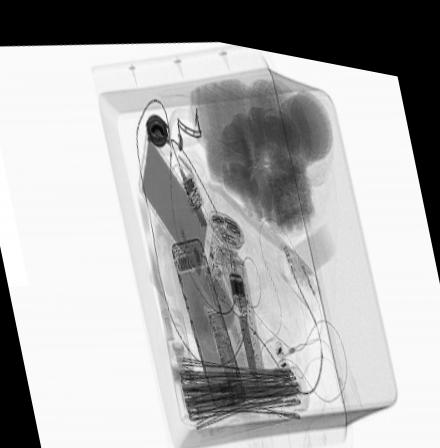Powerbank: (136, 120, 224, 299)
